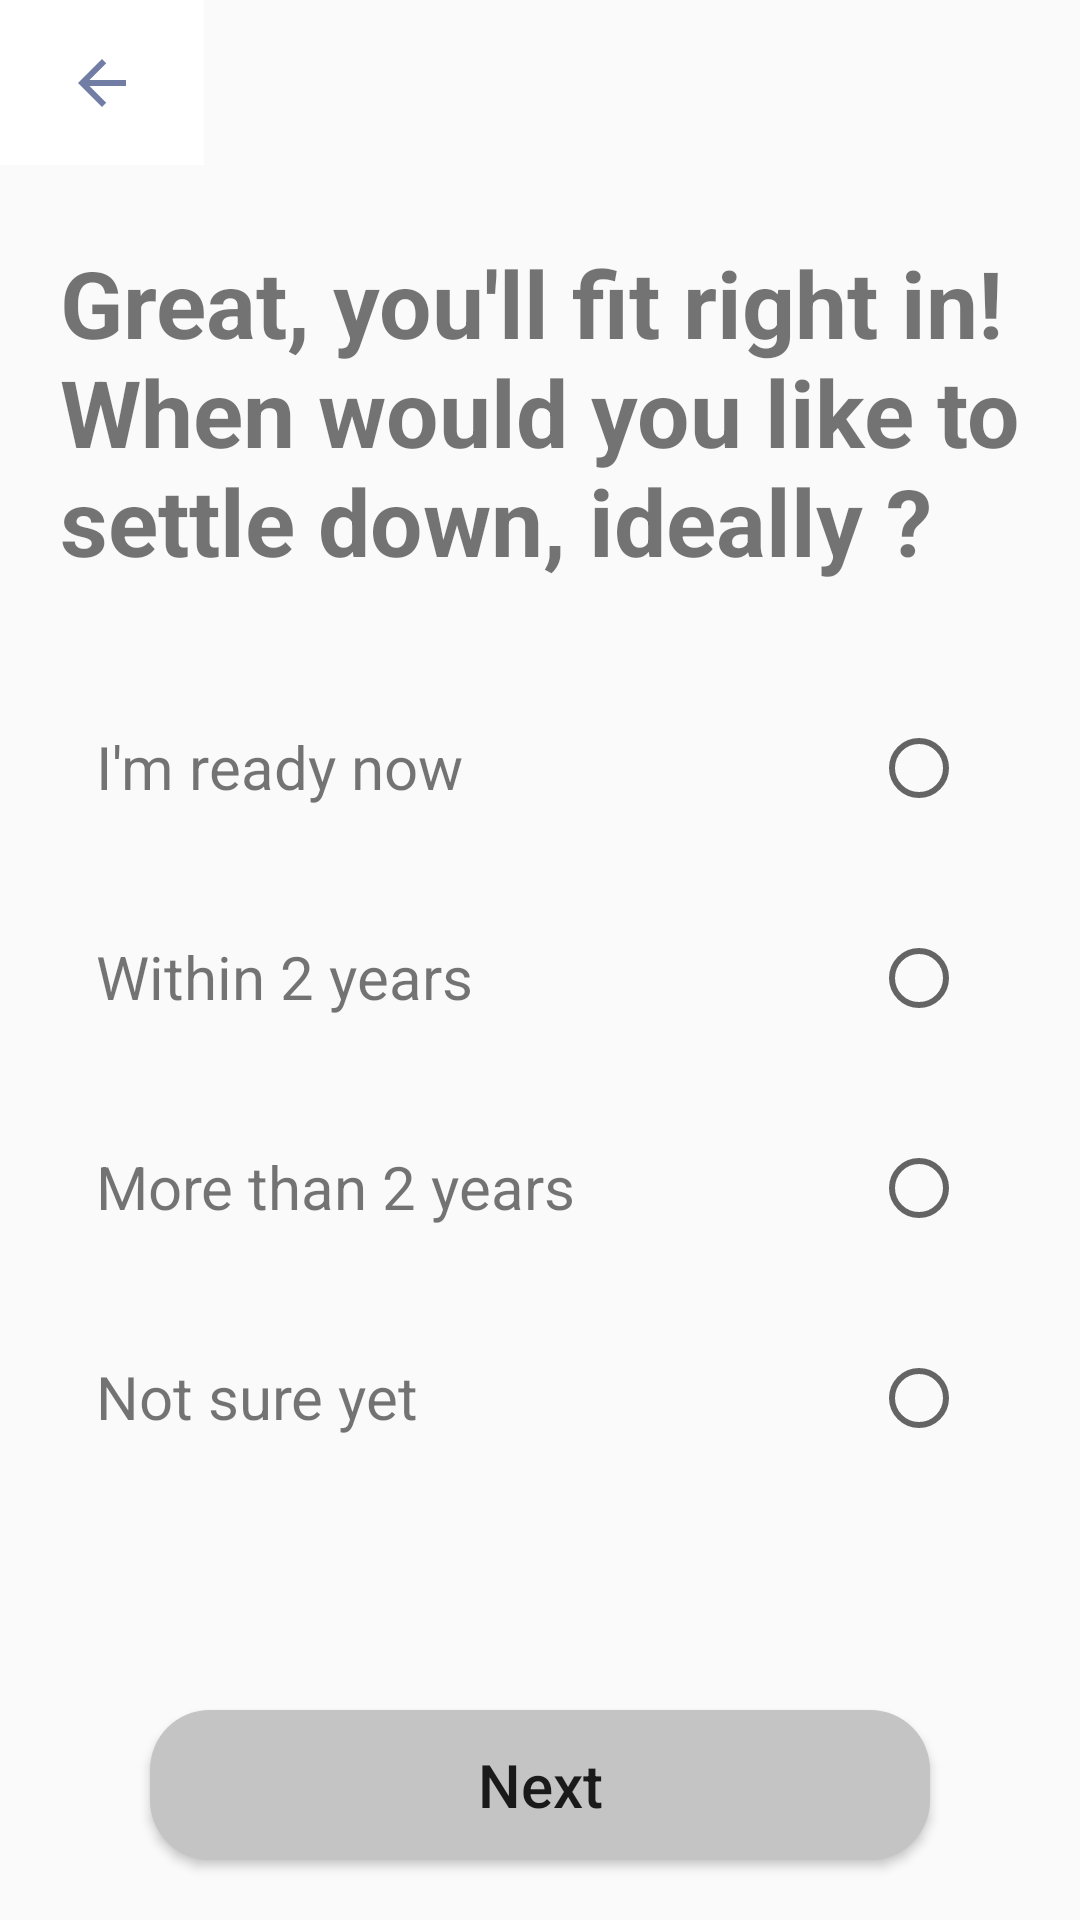

Screen size 1080w x 1920h. Icon name, then its center in pixels as [x,y]:
arrow back: [102,83]
